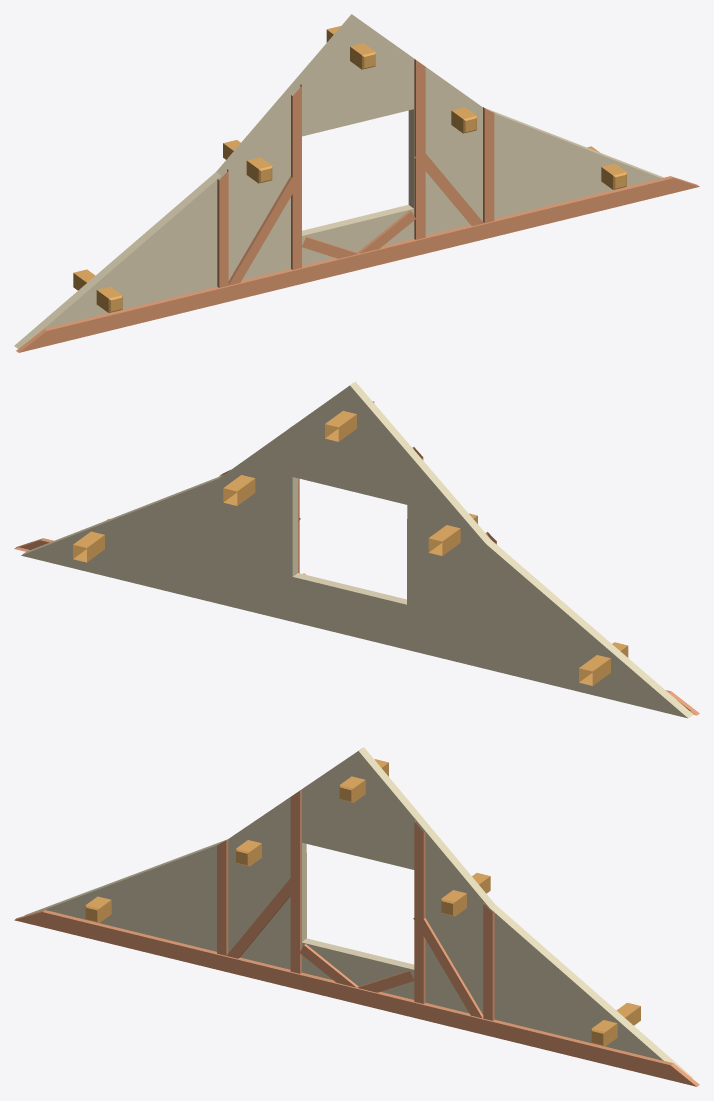
File: Gable_medium1_window.fbx
3 renders of one model, top to bottom at view 1: azimuth 30°, elevation 25°; view 2: azimuth 150°, elevation 25°; view 3: azimuth 330°, elevation 25°, orthographic.
Parts seen in each view (by area): view 1: Gable_medium1_window_wall_low, Gable_medium1_window_woodplank_low, Gable_medium1_window_woodbeam_low; view 2: Gable_medium1_window_wall_low, Gable_medium1_window_woodbeam_low, Gable_medium1_window_woodplank_low; view 3: Gable_medium1_window_wall_low, Gable_medium1_window_woodplank_low, Gable_medium1_window_woodbeam_low.
Part boxes in pixels (<box>): Gable_medium1_window_wall_low: <box>14,14,663,348</box>; Gable_medium1_window_woodplank_low: <box>16,59,699,352</box>; Gable_medium1_window_woodbeam_low: <box>73,26,626,312</box>; Gable_medium1_window_wall_low: <box>21,381,693,718</box>; Gable_medium1_window_woodbeam_low: <box>73,401,628,685</box>; Gable_medium1_window_woodplank_low: <box>14,427,699,715</box>; Gable_medium1_window_wall_low: <box>24,747,692,1078</box>; Gable_medium1_window_woodplank_low: <box>14,790,699,1086</box>; Gable_medium1_window_woodbeam_low: <box>85,759,640,1046</box>.
Size of the model in its own units: 1432 by 502 by 132.
